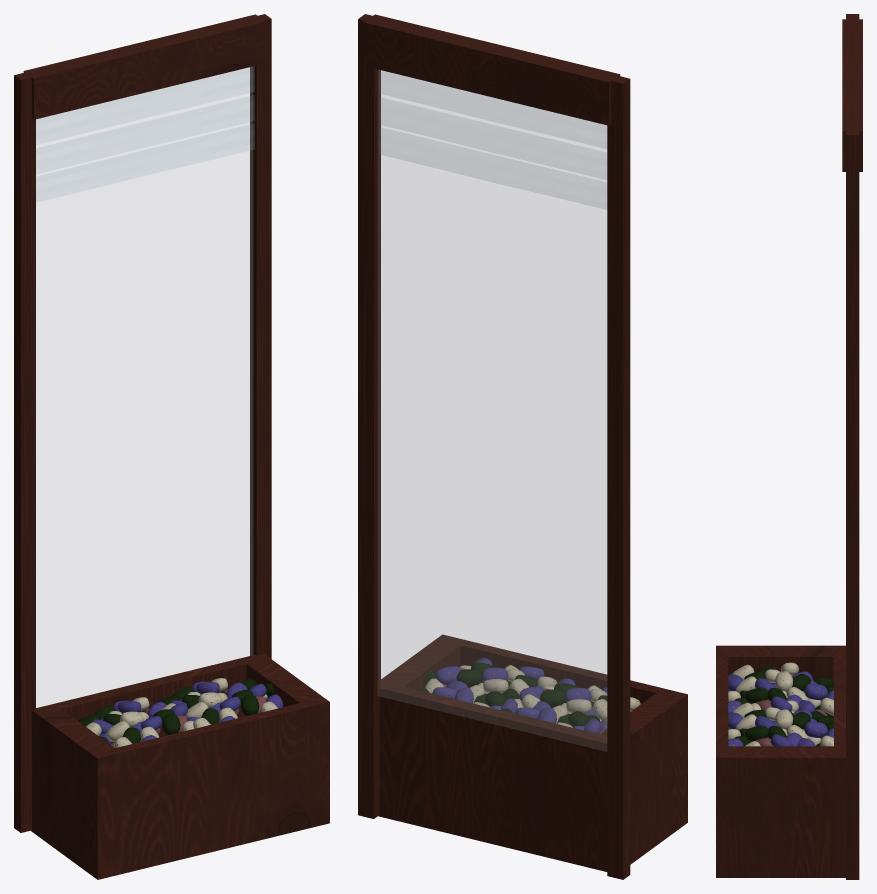
Rendered from waterfall.glb.
3 views of the same model, side by side, from view 1: azimuth 30°, elevation 25°; view 2: azimuth 150°, elevation 25°; view 3: azimuth 270°, elevation 25° (orthographic). The views are drawn at different scales.
Visible parts, largest first — view 1: Glass, Box, LeftBar, RightBar, TopBar, Rocks, Water1.003, Water1.002, Water1.001; view 2: Glass, Box, LeftBar, RightBar, TopBar, Rocks, Water1.002, Water1.003, Water1.001; view 3: Box, RightBar, Rocks, TopBar.
Part boxes in pixels (x1=…): Glass: x1=36, y1=67, x2=252, y2=707; Box: x1=31, y1=654, x2=329, y2=879; LeftBar: x1=14, y1=72, x2=35, y2=832; RightBar: x1=250, y1=14, x2=271, y2=658; TopBar: x1=23, y1=14, x2=265, y2=119; Rocks: x1=78, y1=678, x2=283, y2=747; Water1.003: x1=36, y1=124, x2=254, y2=201; Water1.002: x1=36, y1=95, x2=254, y2=173; Water1.001: x1=36, y1=66, x2=254, y2=144; Glass: x1=378, y1=70, x2=606, y2=751; Box: x1=378, y1=634, x2=687, y2=871; LeftBar: x1=607, y1=76, x2=630, y2=879; RightBar: x1=358, y1=14, x2=380, y2=818; TopBar: x1=364, y1=14, x2=620, y2=125; Rocks: x1=417, y1=658, x2=640, y2=734; Water1.002: x1=380, y1=98, x2=606, y2=179; Water1.003: x1=380, y1=128, x2=606, y2=209; Water1.001: x1=380, y1=70, x2=606, y2=148; Box: x1=716, y1=645, x2=845, y2=877; RightBar: x1=846, y1=131, x2=859, y2=879; Rocks: x1=728, y1=662, x2=833, y2=746; TopBar: x1=842, y1=19, x2=862, y2=171.
Bounding box in the file's own units: 1.74 × 5.01 × 0.8941.
Materials: 4 (2 with a texture image).
